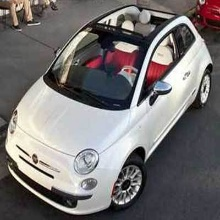no damage: (5, 5, 213, 215)
